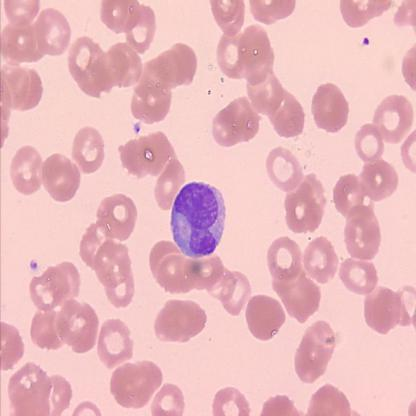Monocyte: (167, 178, 229, 261)
